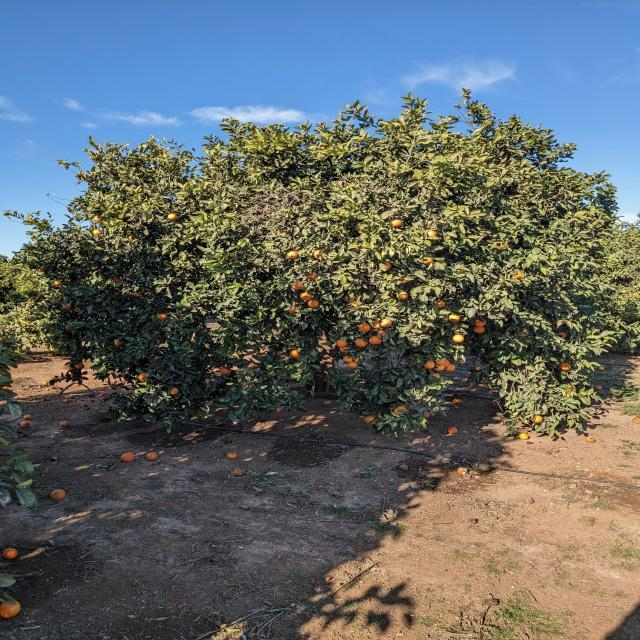Jeruk Sudah Matang: (358, 323, 372, 332), (516, 328, 530, 336), (558, 363, 572, 371), (380, 318, 392, 327), (369, 336, 381, 345), (424, 360, 436, 369), (390, 220, 403, 228), (355, 339, 368, 347), (220, 366, 232, 374), (314, 250, 326, 258), (292, 281, 304, 289), (300, 293, 312, 301), (308, 300, 320, 308), (396, 292, 408, 300), (377, 330, 389, 338), (365, 416, 377, 424), (394, 406, 406, 414), (452, 334, 464, 342), (449, 314, 461, 322), (434, 300, 446, 308), (474, 326, 486, 334), (371, 320, 381, 329), (422, 257, 433, 265), (447, 426, 458, 434), (532, 415, 543, 423), (307, 272, 318, 280), (168, 388, 180, 395), (474, 319, 486, 326), (288, 251, 298, 259), (336, 340, 346, 348), (446, 363, 456, 371), (426, 230, 437, 237), (94, 216, 106, 222), (167, 213, 177, 220), (52, 280, 62, 287), (138, 373, 148, 380), (345, 295, 355, 302), (519, 433, 529, 440), (434, 364, 444, 371), (497, 243, 507, 250), (91, 230, 102, 236), (435, 360, 446, 366), (553, 320, 566, 325), (292, 350, 300, 358), (158, 313, 167, 320), (384, 261, 391, 270), (559, 331, 568, 338), (134, 292, 144, 298), (339, 347, 351, 352), (348, 362, 358, 368), (513, 272, 523, 278), (594, 386, 604, 392), (452, 398, 462, 404), (260, 264, 270, 270), (62, 304, 71, 310), (289, 307, 298, 313), (351, 302, 360, 308), (343, 356, 352, 362), (112, 279, 122, 284), (74, 308, 82, 314), (423, 412, 430, 418), (432, 372, 439, 378), (400, 278, 408, 283), (444, 359, 449, 367), (354, 358, 361, 363), (114, 340, 122, 344), (76, 364, 84, 368), (474, 366, 482, 370), (488, 360, 496, 364), (65, 326, 72, 330), (275, 408, 281, 412), (278, 350, 284, 354), (628, 349, 634, 353), (42, 382, 48, 384), (600, 367, 604, 370)
